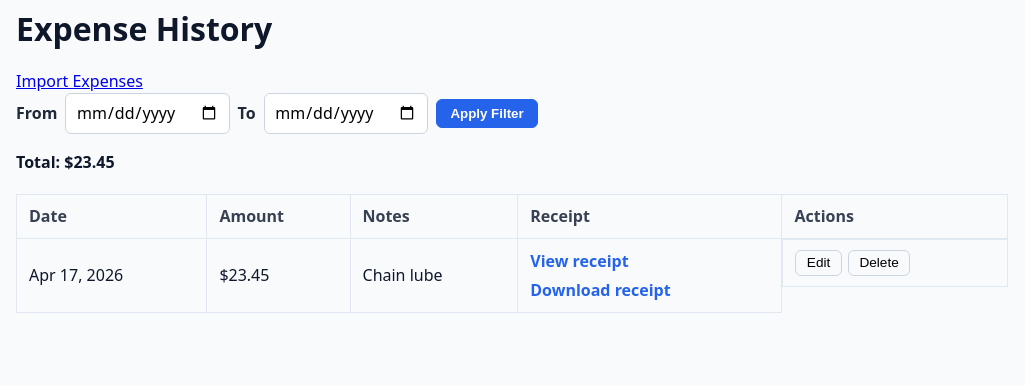
Scenario: ExpenseHistoryPage › supports inline edit and delete actions
This screenshot has width=1025, height=386.
expect the button with aria-label "delete expense" is shown: met, box [848,250,910,276]
Click the button with aria-label "edit expense" at (819, 263), box [796,250,842,276]
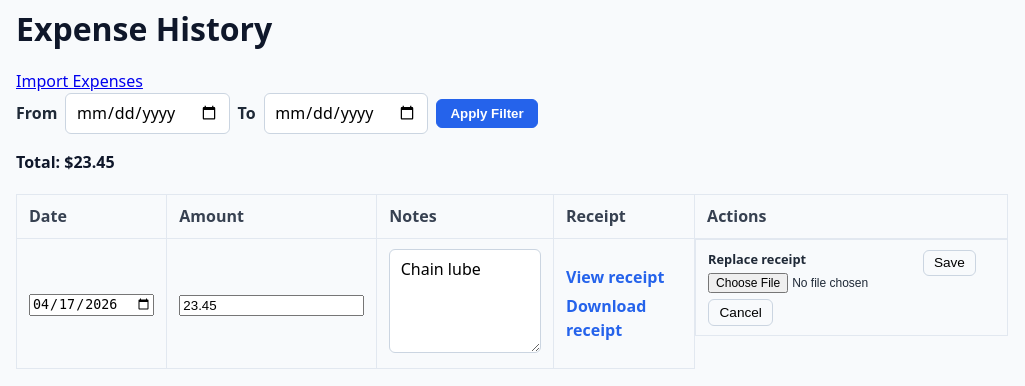
expect the file field labelled "Replace receipt" is shown: met, box [708,273,916,293]
